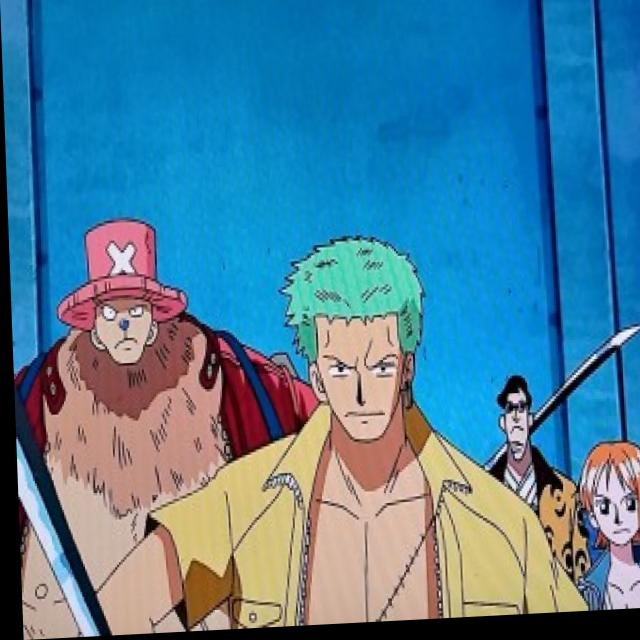Chyopa: (47, 204, 191, 385)
Nami: (567, 433, 640, 575)
Zoro: (268, 225, 451, 461)
